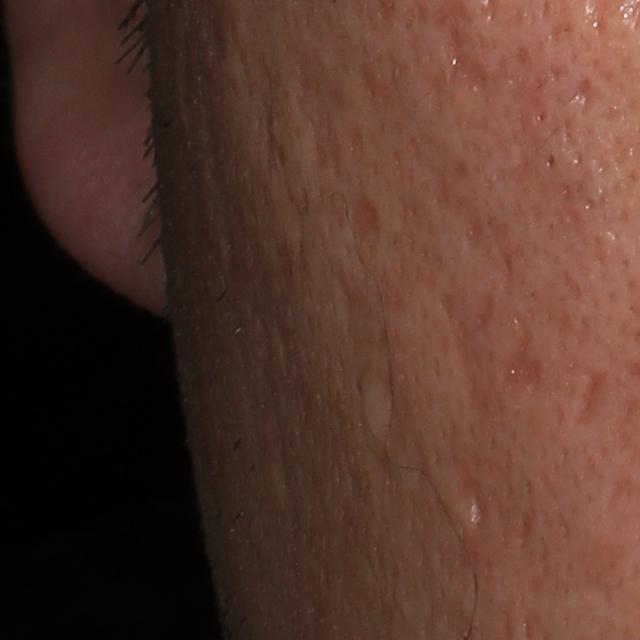atrophic_scar: (442, 32, 491, 94), (498, 346, 549, 402), (568, 372, 614, 430), (364, 369, 399, 443), (446, 318, 478, 383), (458, 473, 489, 530), (574, 73, 610, 118), (352, 194, 381, 242), (475, 291, 497, 331), (515, 511, 535, 549), (545, 151, 556, 170)
